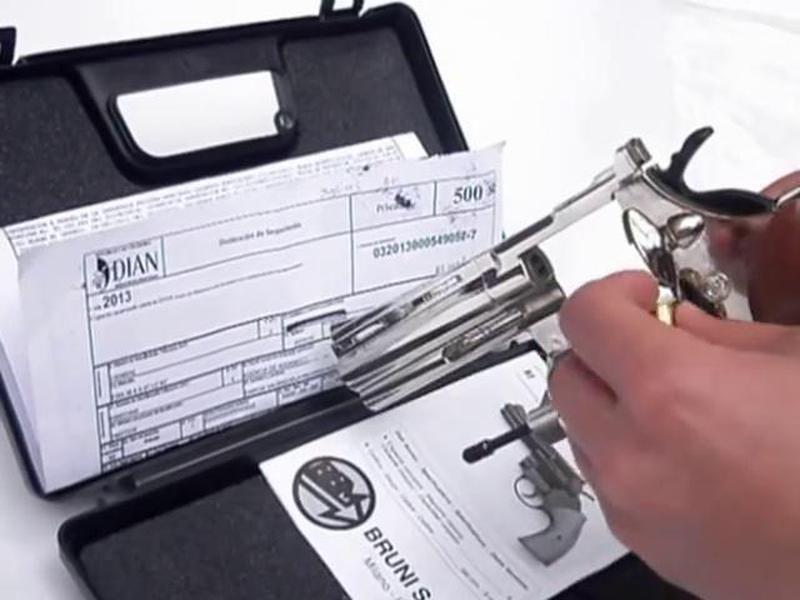Revolver: (260, 154, 800, 503)
